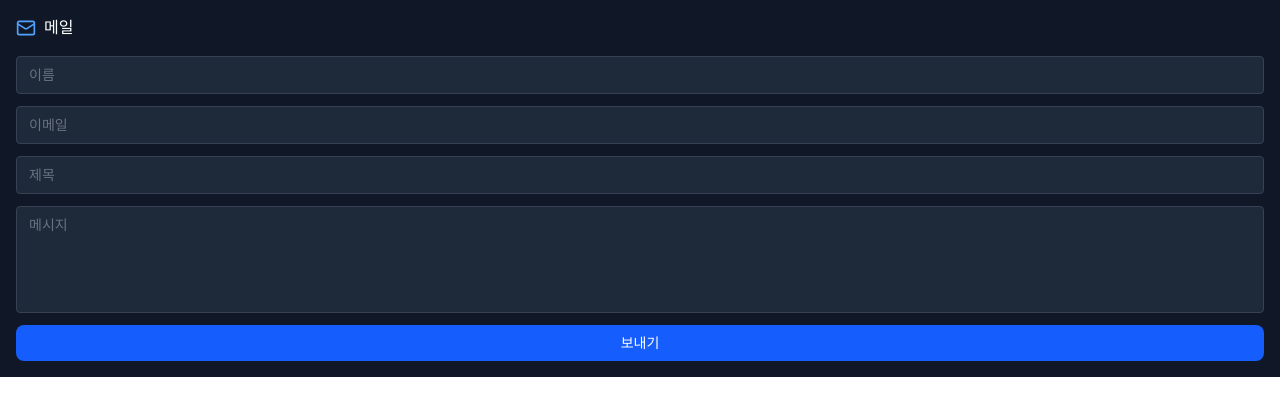
Test case: MailingApp › shows email format validation error
Type "Hana" into the field with test id "mail-name".
click(640, 75); type("Hana")  # box [16,56,1264,94]
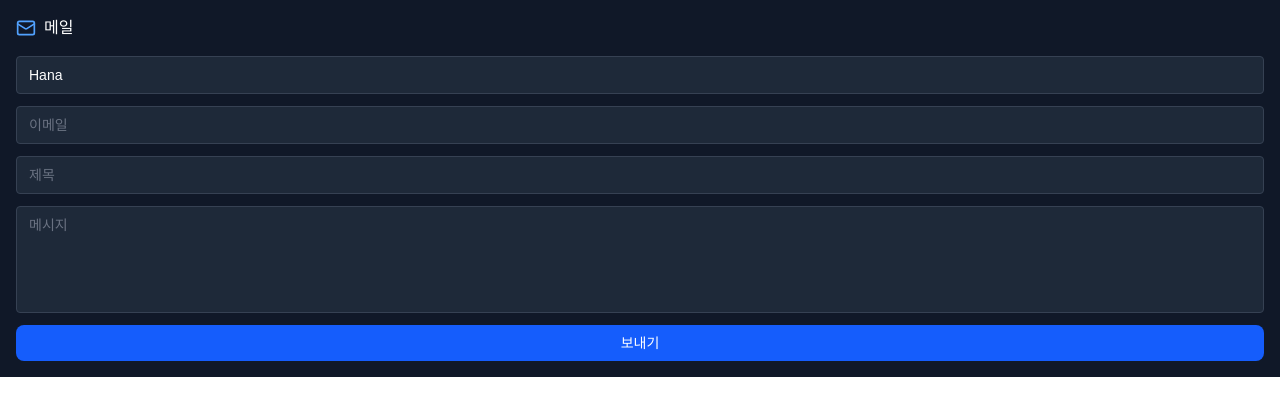
Type "invalid-email" into the field with test id "mail-email".
click(640, 125); type("invalid-email")  # box [16,106,1264,144]
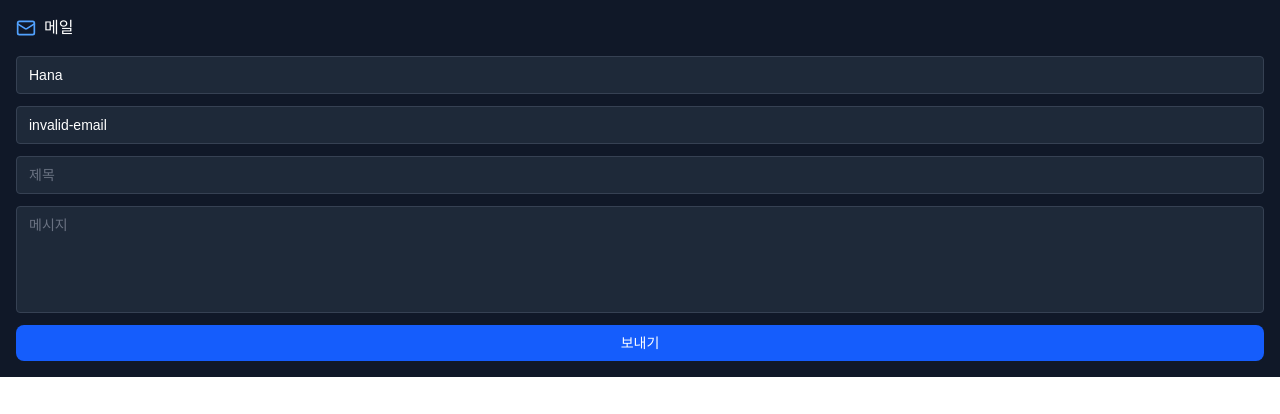
Type "Hello" into the field with test id "mail-subject".
click(640, 175); type("Hello")  # box [16,156,1264,194]
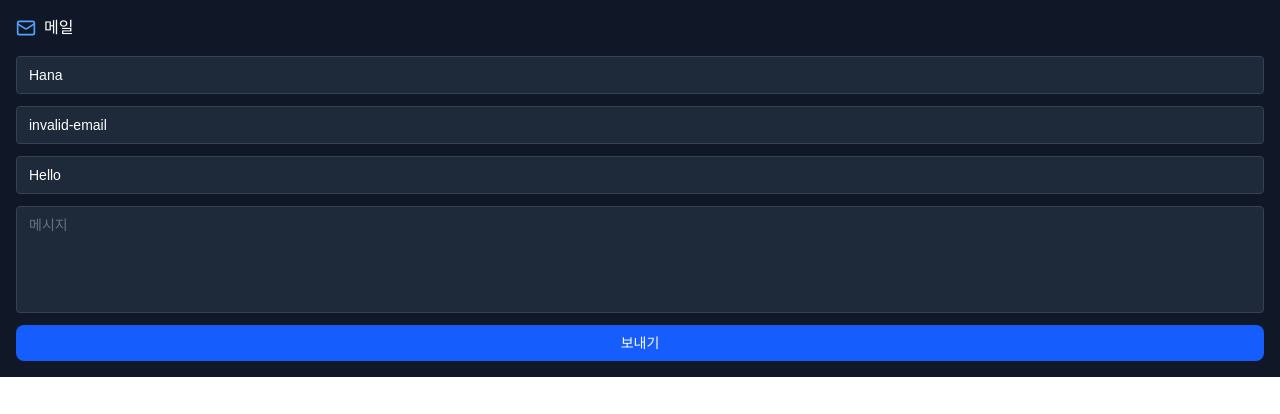
Type "Test message" into the text box with test id "mail-message".
click(640, 260); type("Test message")  # box [16,206,1264,313]
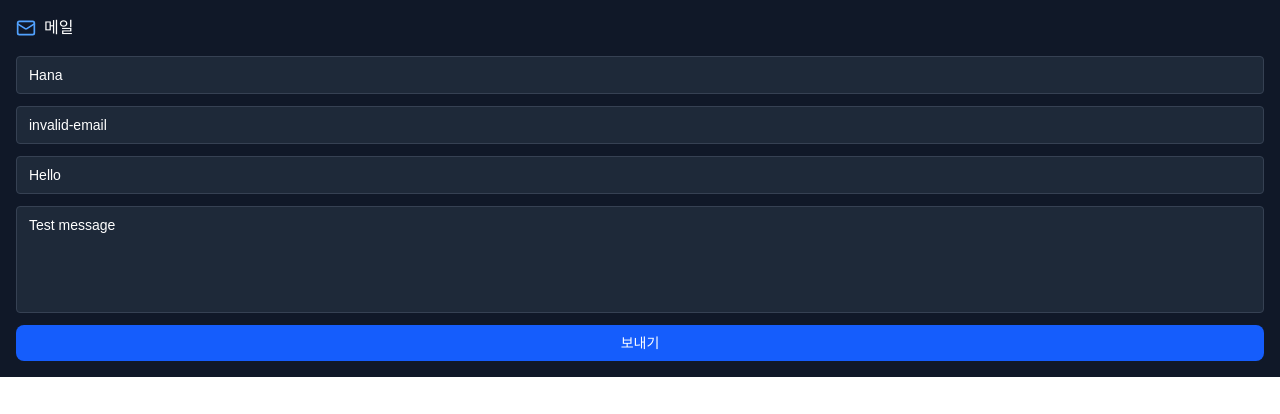
Submit the form
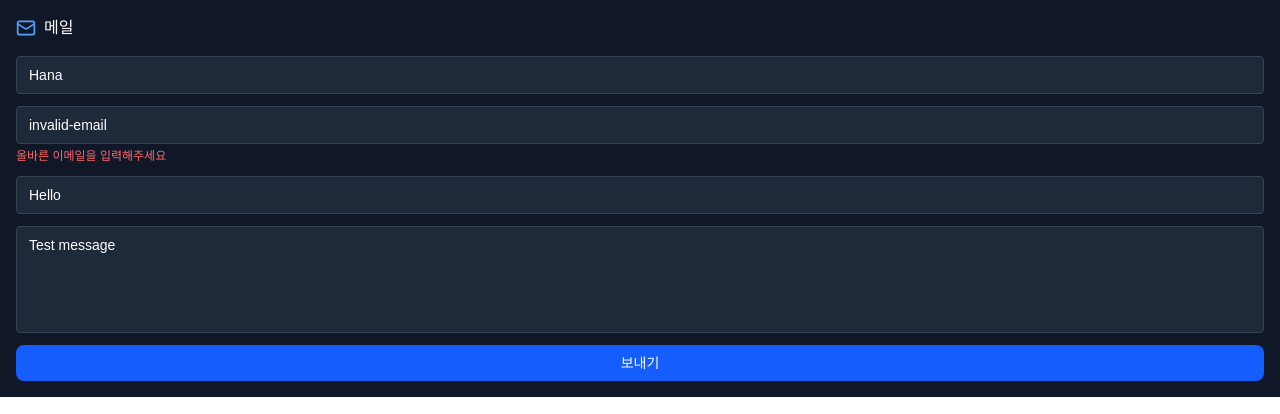
Check: the text "올바른 이메일을 입력해주세요" is shown, box [16,149,166,163]
